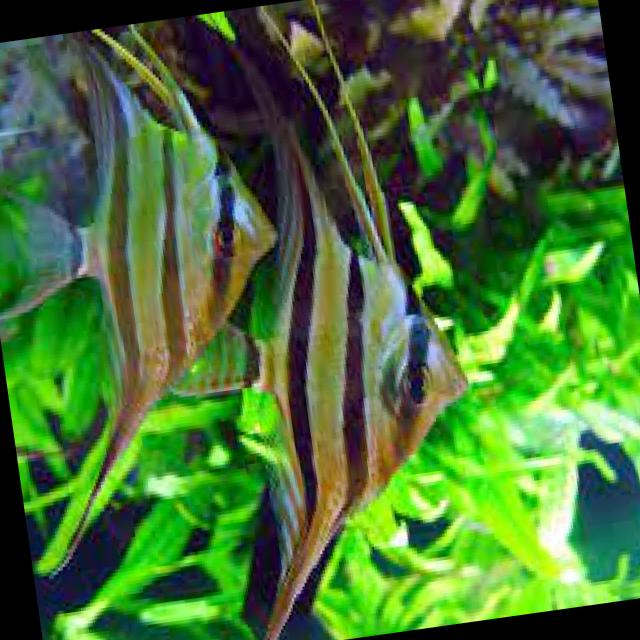AngelFish: (114, 0, 498, 640), (0, 6, 325, 580)
